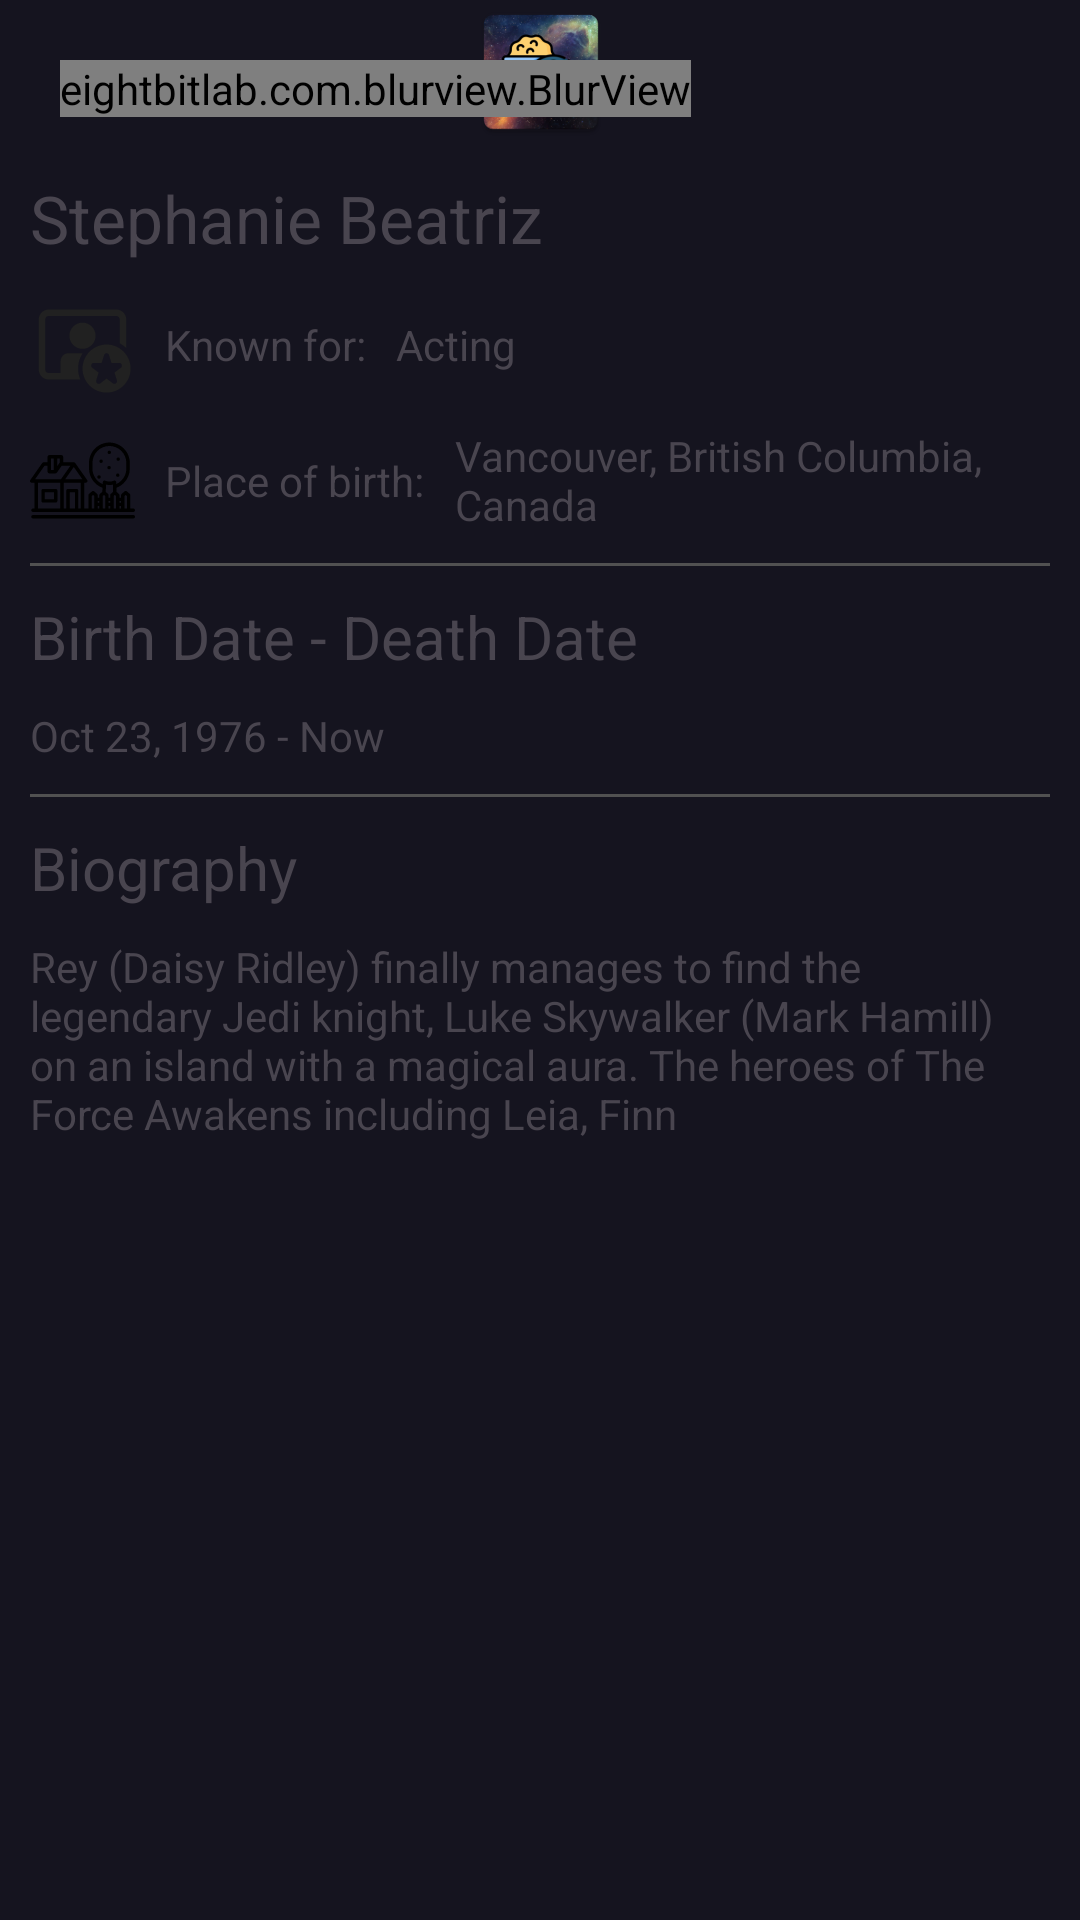

Where to tap for icons on this 1080w x 1920h app screen, as (x,y):
hometown: (82,480)
